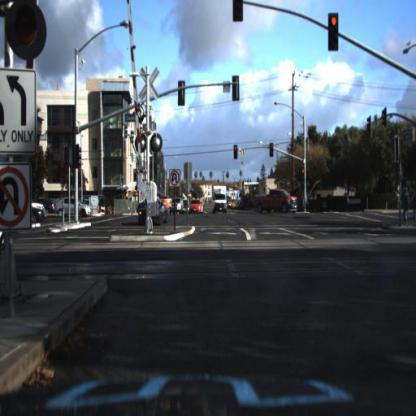biker: (399, 185, 411, 227)
car: (257, 189, 300, 216), (56, 193, 93, 222), (140, 199, 167, 226), (168, 195, 185, 217), (189, 201, 204, 217), (170, 195, 182, 214)
pedestrian: (401, 167, 414, 232), (341, 183, 354, 220), (344, 190, 354, 213), (411, 184, 416, 219)
trafficLight: (232, 1, 244, 25), (234, 140, 239, 162)
trafficLight-Red: (329, 11, 340, 49), (300, 160, 306, 178), (270, 141, 276, 158), (302, 165, 307, 177)
truck: (216, 185, 230, 216)
